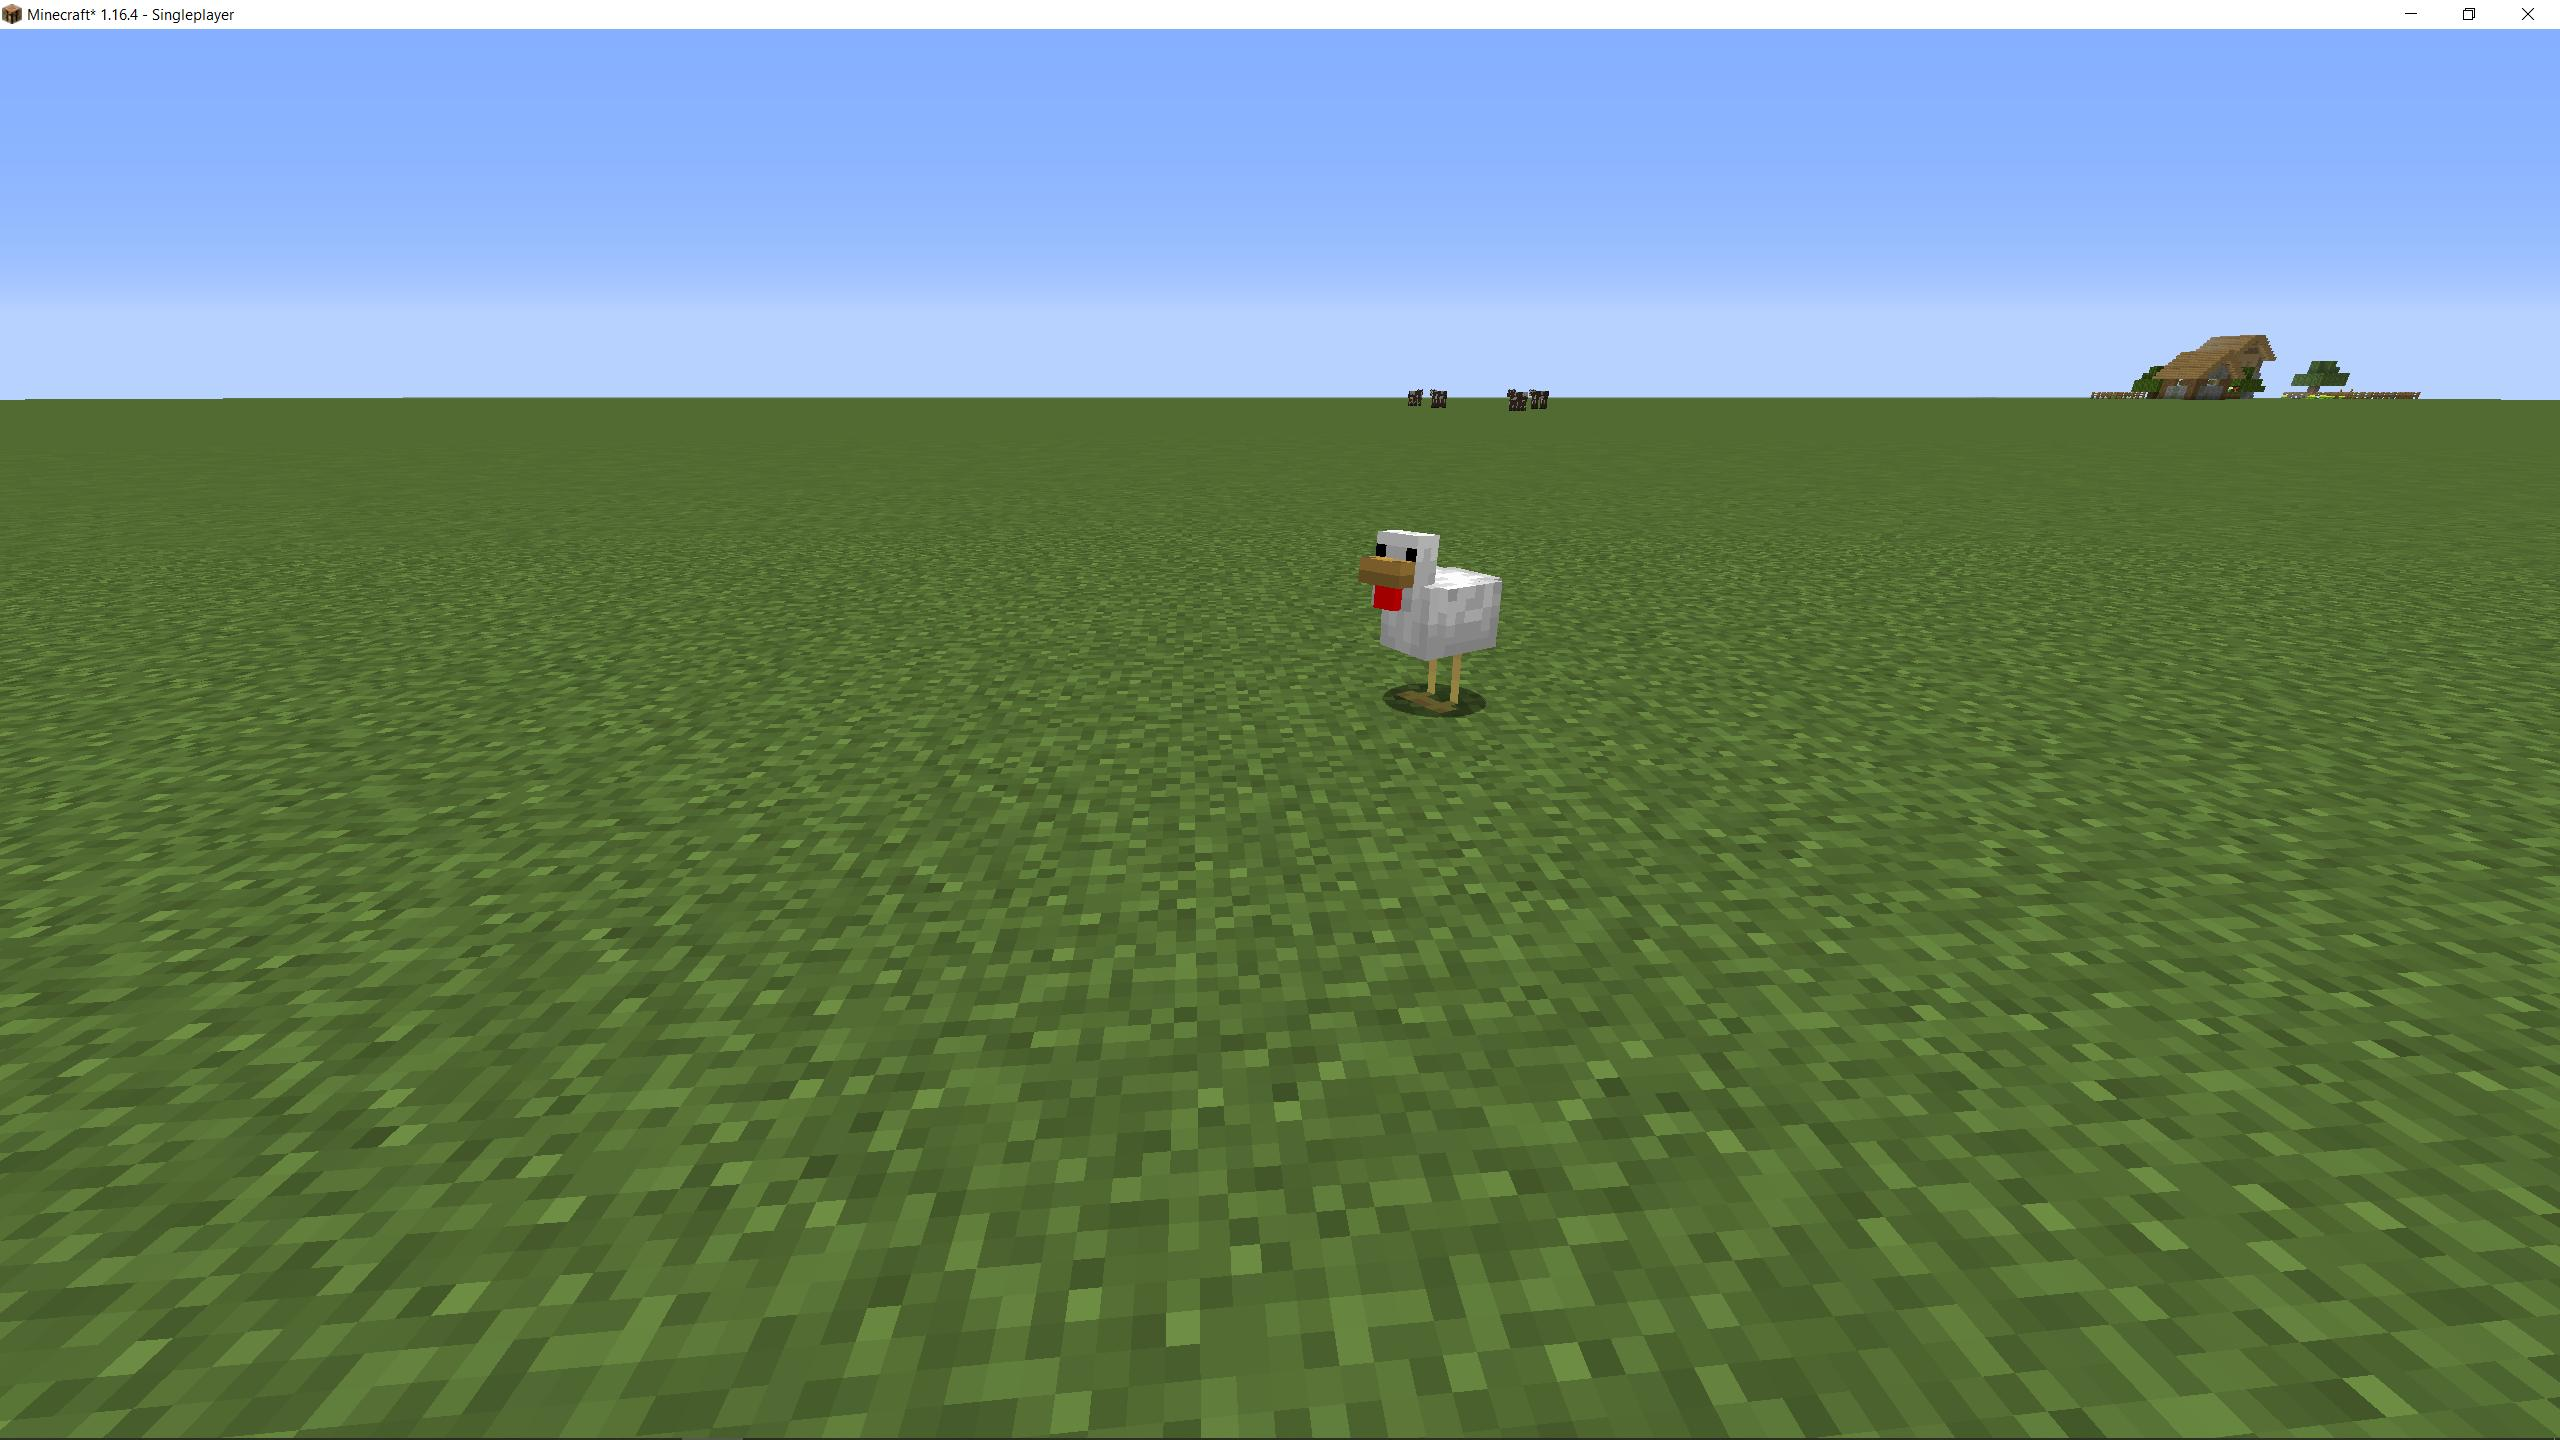chicken: (1347, 519, 1510, 721)
